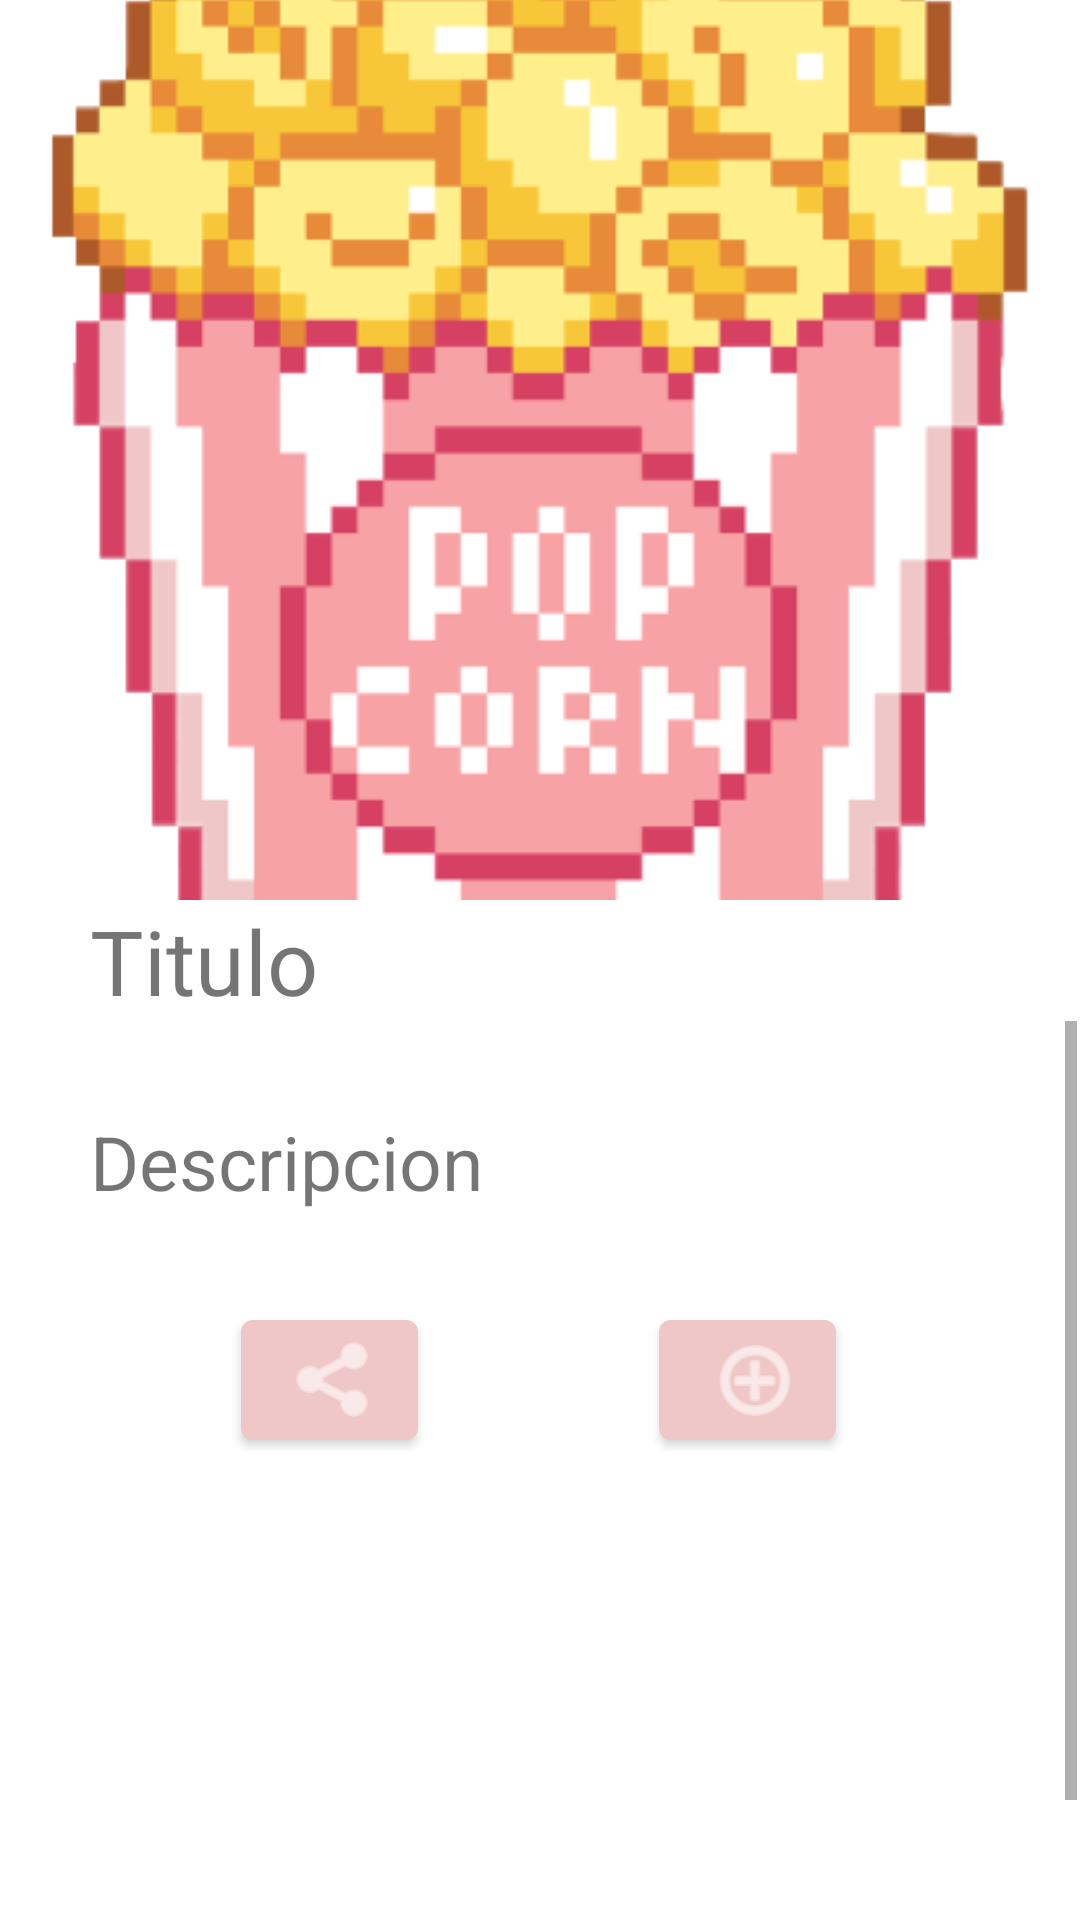

Where icons sit on this 1080×1920 app screen, as (x1, y1, x2, y2):
add: (659, 1320, 836, 1444)
share: (241, 1320, 418, 1444)
